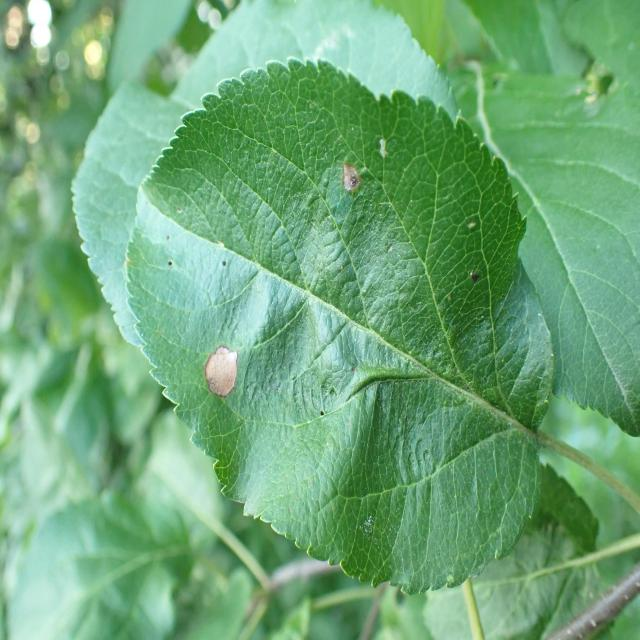frog-eye-leaf-spot: (121, 58, 555, 598)
